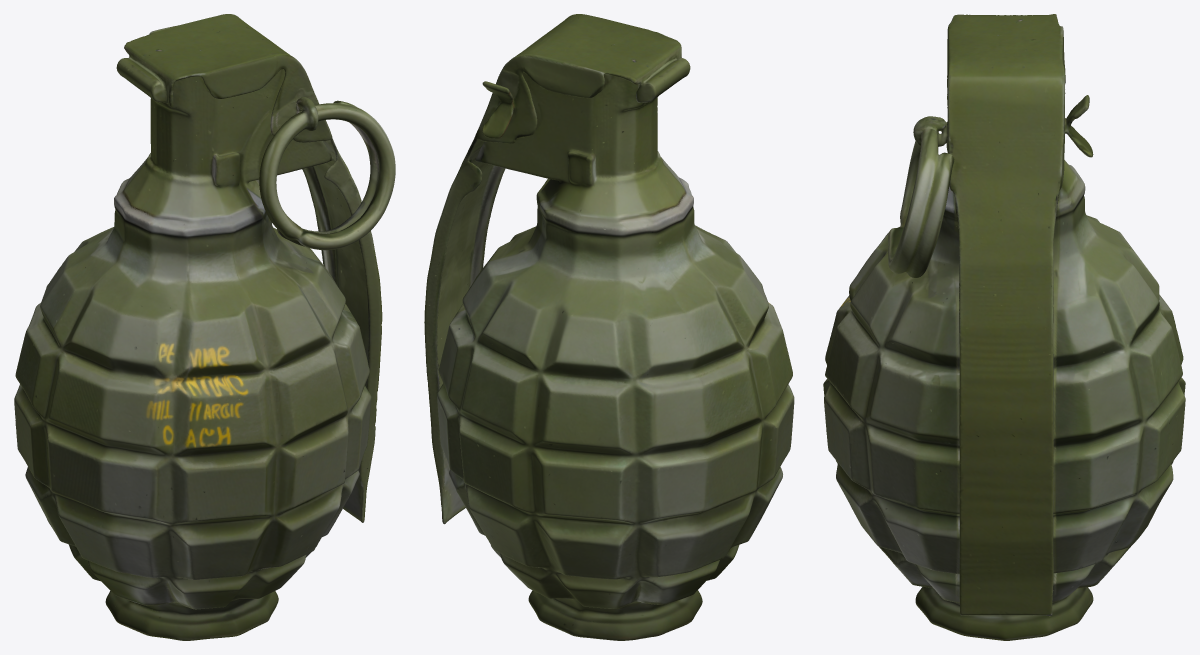
Rendered from grenade.glb.
The picture shows the model from 3 angles, left to right: view 1: azimuth 30°, elevation 25°; view 2: azimuth 150°, elevation 25°; view 3: azimuth 270°, elevation 25°; orthographic projection. The views are drawn at different scales.
Bounding box in the file's own units: 1.21 × 2 × 1.15.
Materials: 1 (1 with a texture image).
